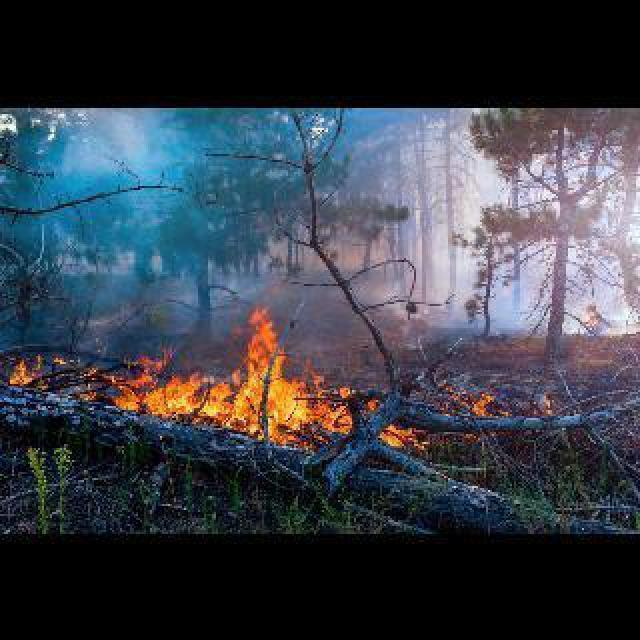fire: (122, 299, 410, 444)
